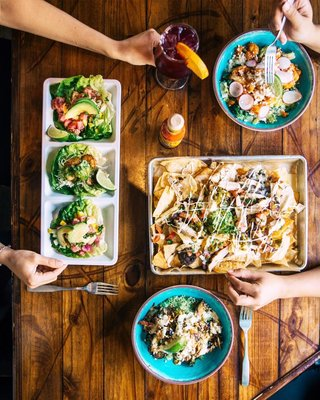burger: (237, 306, 254, 387)
pasta: (176, 42, 210, 81)
sushi: (212, 28, 318, 132), (131, 285, 235, 383)
